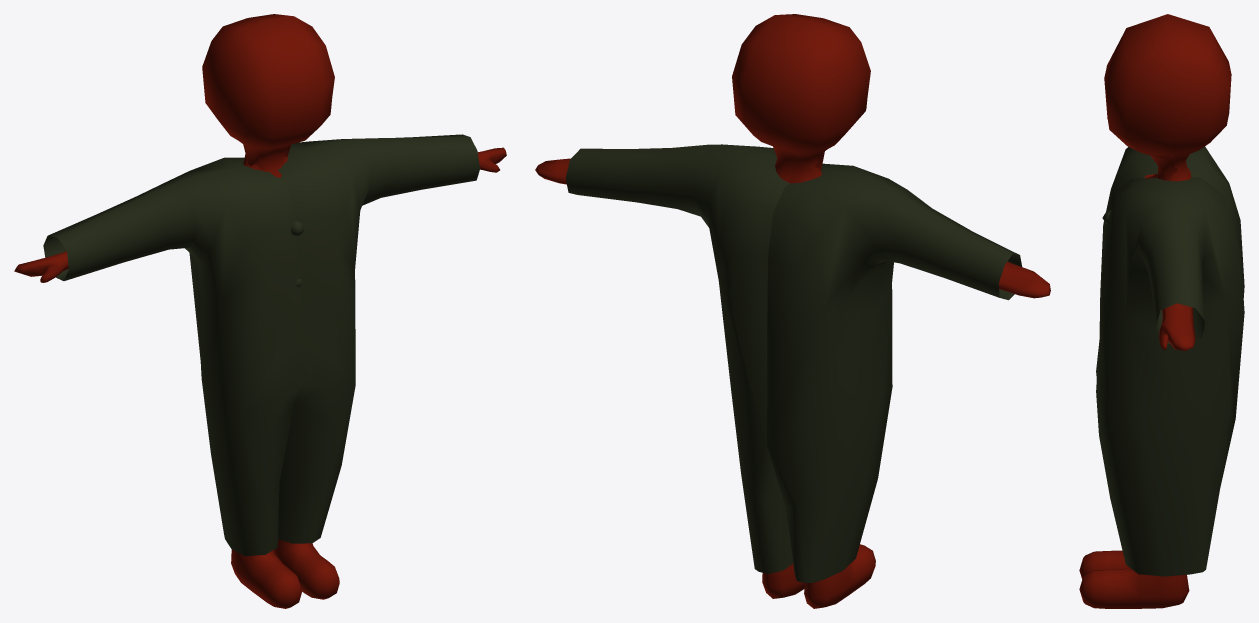
The model's file is dusmanson.fbx.
3 views of the same model, side by side, from view 1: azimuth 30°, elevation 25°; view 2: azimuth 150°, elevation 25°; view 3: azimuth 270°, elevation 25° (orthographic). The views are drawn at different scales.
Parts seen in each view (by area): view 1: character; view 2: character; view 3: character.
Part boxes in pixels (x1,y1,x2,y2): character: [14, 14, 506, 608]; character: [535, 14, 1050, 608]; character: [1079, 14, 1244, 608].
Size of the model in its own units: 1056 by 1146 by 299.
